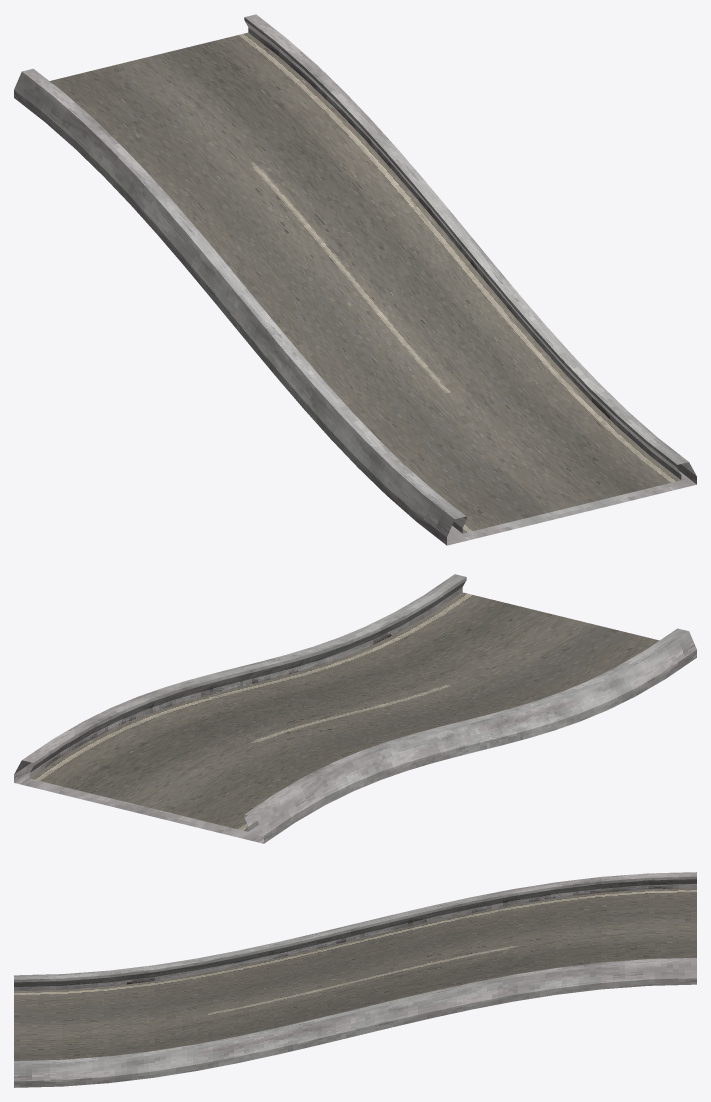
File: straight3.glb
3 renders of one model, top to bottom at view 1: azimuth 30°, elevation 25°; view 2: azimuth 150°, elevation 25°; view 3: azimuth 270°, elevation 25°, orthographic. The views are drawn at different scales.
Visible parts, largest first — view 1: road-Straight-Flat-Flat-Up2-Center-Size3; view 2: road-Straight-Flat-Flat-Up2-Center-Size3; view 3: road-Straight-Flat-Flat-Up2-Center-Size3.
Part boxes in pixels (box(x1,y1,x2,y2)): road-Straight-Flat-Flat-Up2-Center-Size3: box(14, 14, 696, 545); road-Straight-Flat-Flat-Up2-Center-Size3: box(14, 574, 696, 843); road-Straight-Flat-Flat-Up2-Center-Size3: box(14, 872, 696, 1087).
Size of the model in its own units: 1 by 0.5938 by 3.
2 materials, 2 textured.
